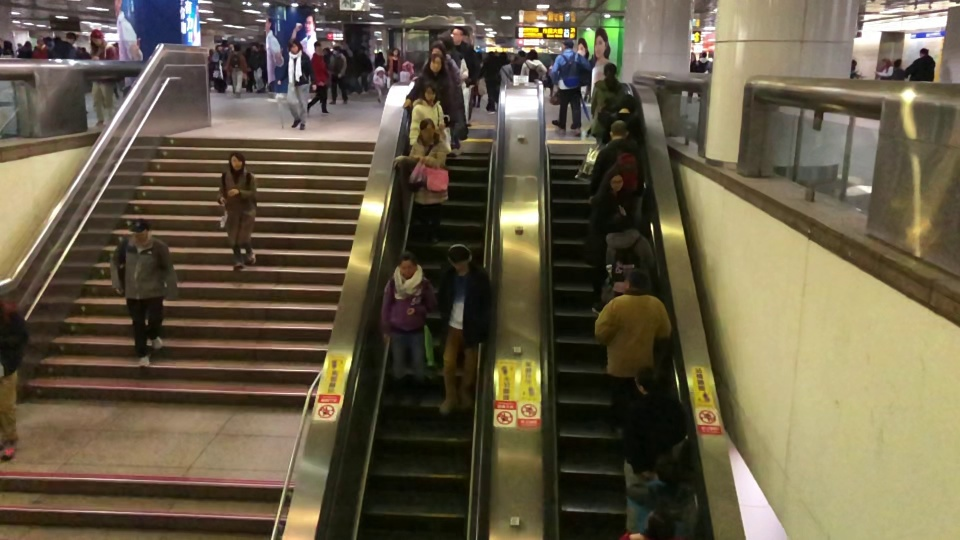person_head: (633, 364, 666, 394), (652, 455, 680, 484), (624, 267, 649, 291), (448, 243, 470, 268), (605, 168, 624, 192), (399, 250, 417, 275), (418, 117, 435, 143), (130, 220, 150, 242), (610, 119, 628, 141), (616, 94, 636, 113), (427, 52, 444, 72), (422, 79, 437, 101), (609, 213, 627, 231), (229, 150, 246, 169), (287, 37, 303, 53), (90, 29, 105, 45), (602, 61, 616, 77), (452, 27, 463, 44), (560, 38, 574, 49), (65, 31, 77, 43), (919, 46, 930, 57), (313, 41, 321, 53), (527, 50, 537, 59), (881, 56, 890, 66), (392, 47, 400, 57), (501, 54, 508, 65), (24, 39, 32, 48), (332, 43, 340, 51), (894, 59, 902, 67), (37, 38, 44, 47), (233, 42, 240, 51), (851, 58, 856, 70), (376, 67, 384, 74), (691, 50, 696, 60), (405, 61, 411, 69), (216, 45, 223, 50), (702, 51, 706, 58)
person_vbox: (594, 267, 672, 436), (621, 364, 690, 533), (110, 219, 178, 369), (436, 243, 492, 418), (379, 249, 437, 406), (586, 164, 624, 314), (215, 150, 258, 273), (407, 117, 447, 245), (0, 296, 31, 461), (600, 213, 655, 303), (589, 118, 646, 192), (548, 38, 590, 138), (402, 51, 460, 122), (647, 456, 698, 533), (276, 37, 316, 129), (590, 60, 624, 141), (89, 28, 117, 125), (408, 79, 445, 149), (601, 92, 643, 143), (305, 40, 330, 114), (451, 26, 477, 83), (328, 42, 350, 104), (226, 41, 248, 98), (904, 47, 935, 82), (519, 50, 548, 82), (211, 45, 228, 92), (54, 32, 78, 59), (686, 50, 697, 103), (386, 46, 401, 83), (372, 66, 385, 104), (874, 55, 893, 81), (31, 38, 49, 59), (500, 54, 513, 83), (849, 58, 863, 80), (697, 50, 708, 73), (893, 59, 905, 80), (403, 60, 413, 75)
